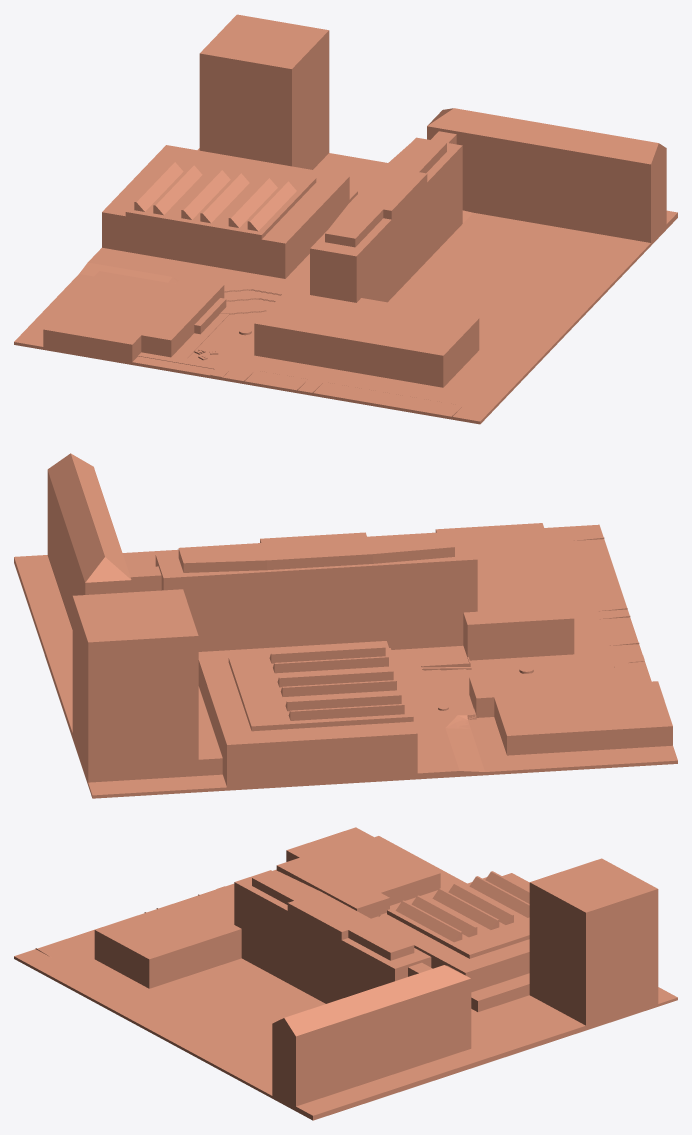
The model's file is gazebo1.dae.
The picture shows the model from 3 angles, top to bottom: view 1: azimuth 30°, elevation 25°; view 2: azimuth 150°, elevation 25°; view 3: azimuth 270°, elevation 25°; orthographic projection. The views are drawn at different scales.
Visible parts, largest first — view 1: Gazebo World; view 2: Gazebo World; view 3: Gazebo World.
Part boxes in pixels (<box>): Gazebo World: <box>14,14,677,424</box>; Gazebo World: <box>14,453,677,798</box>; Gazebo World: <box>14,827,677,1120</box>.
Size of the model in its own units: 226 by 225 by 44.
